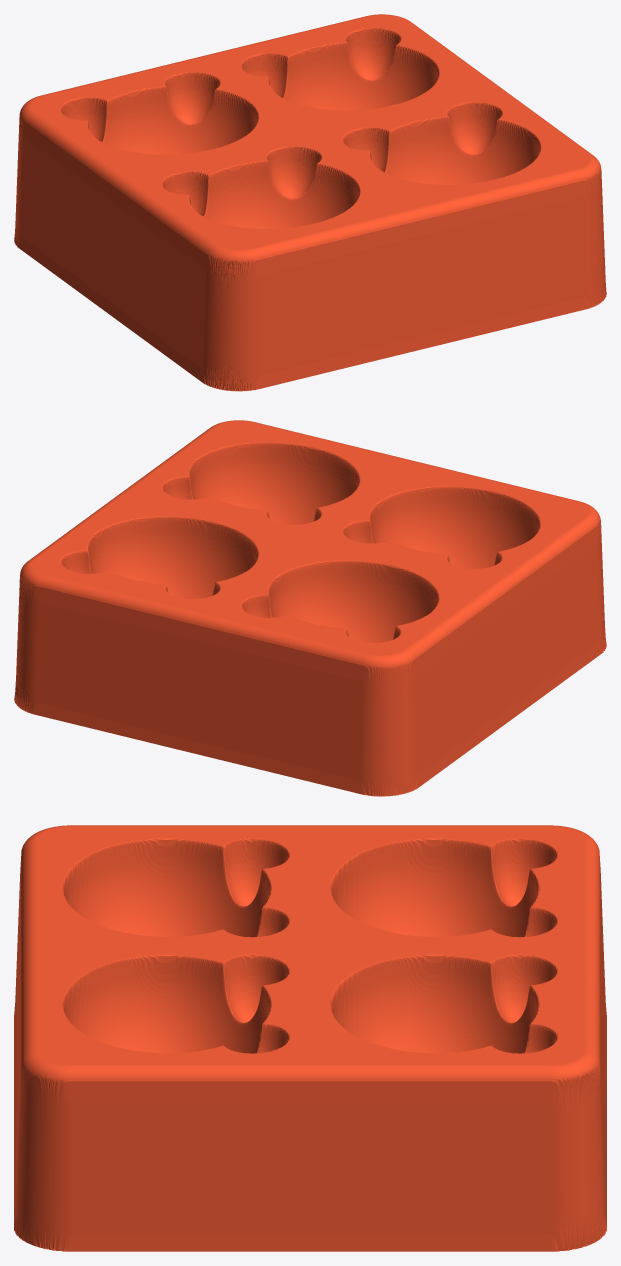
The model's file is mold.glb.
3 views of the same model, one above another, from view 1: azimuth 30°, elevation 25°; view 2: azimuth 150°, elevation 25°; view 3: azimuth 270°, elevation 25° (orthographic). The views are drawn at different scales.
Parts seen in each view (by area): view 1: geometry_0; view 2: geometry_0; view 3: geometry_0.
Boxes of the visible parts, <box> form: geometry_0: <box>14,14,606,391</box>; geometry_0: <box>14,420,606,796</box>; geometry_0: <box>14,825,606,1251</box>.
Size of the model in its own units: 0.0976 by 0.0314 by 0.0952.
